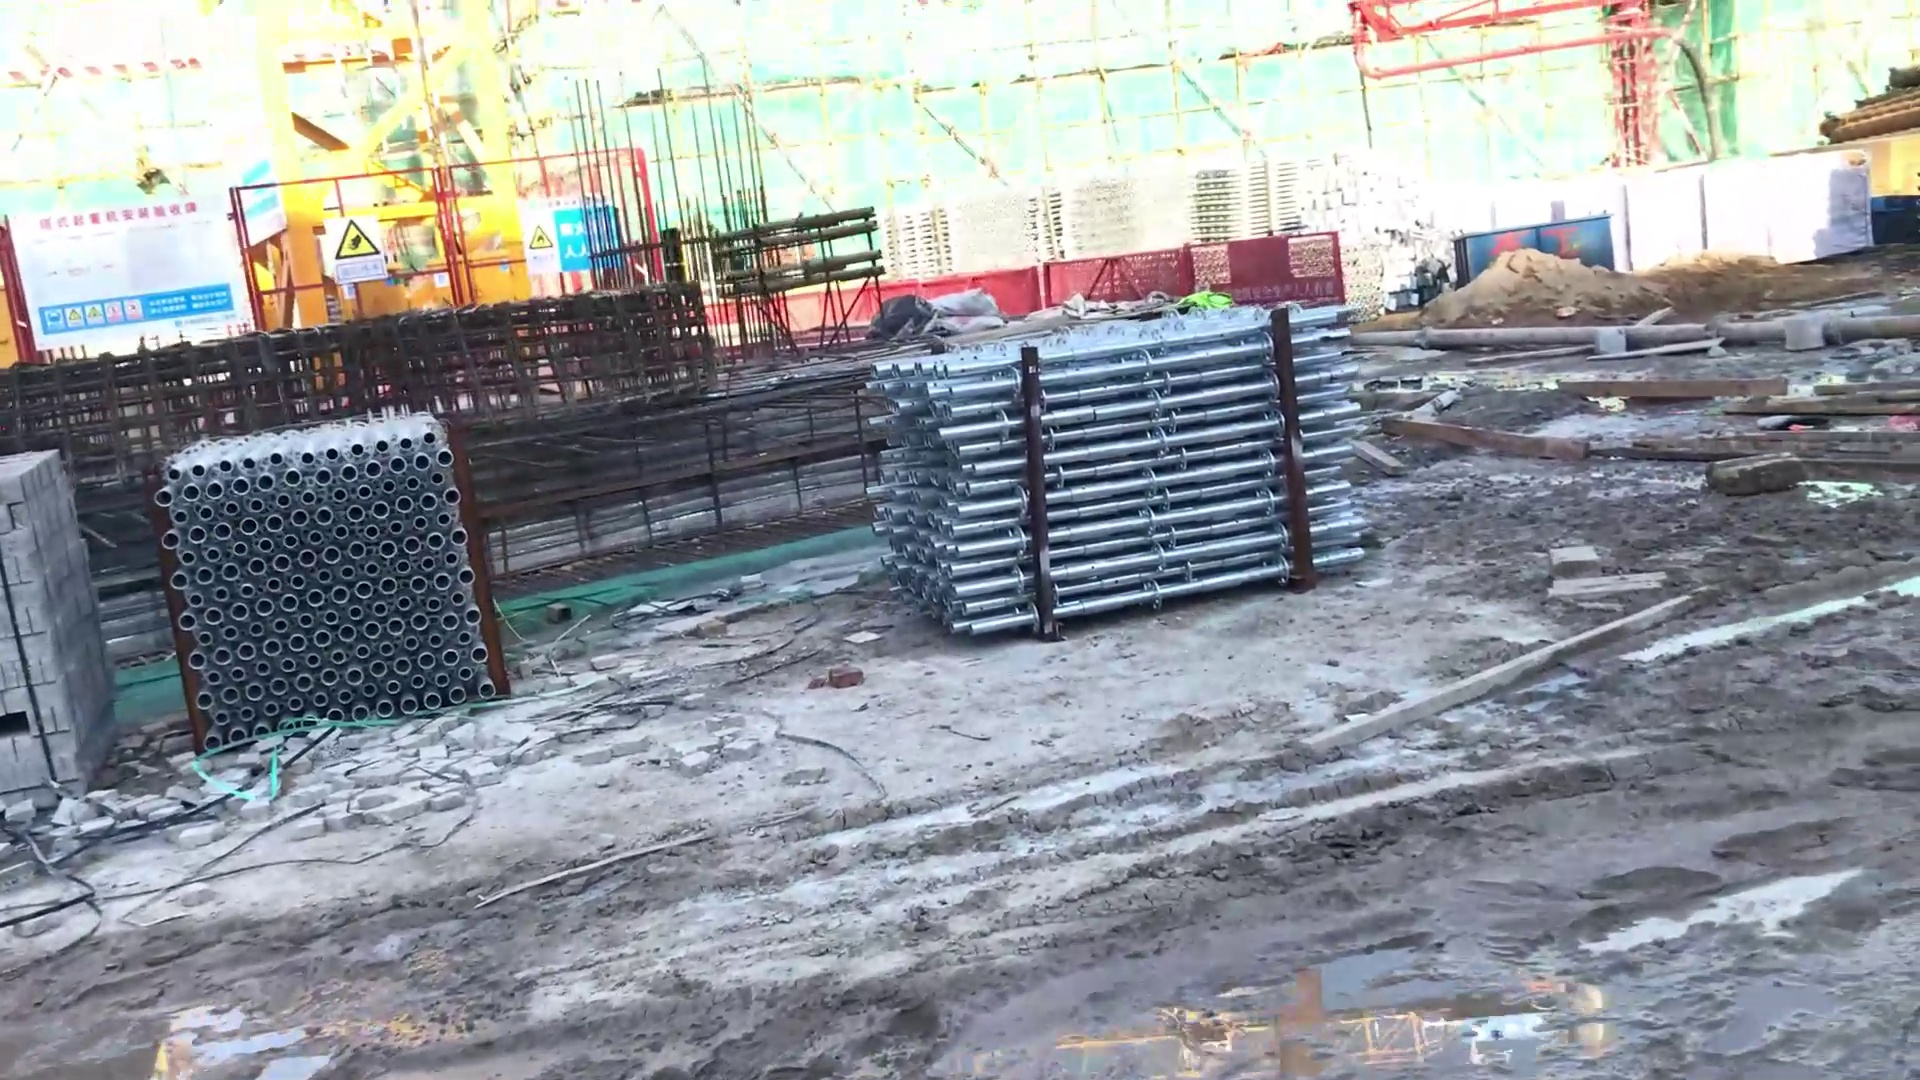brick: (1, 444, 125, 793)
fence: (228, 165, 670, 322), (1044, 237, 1356, 319)
hopper: (1447, 207, 1638, 295)
scaffold: (852, 323, 1389, 634), (149, 440, 475, 757), (881, 175, 997, 282), (1192, 156, 1349, 233), (1017, 175, 1154, 260)
slogan: (38, 290, 235, 326), (502, 204, 585, 273), (309, 214, 389, 284)
